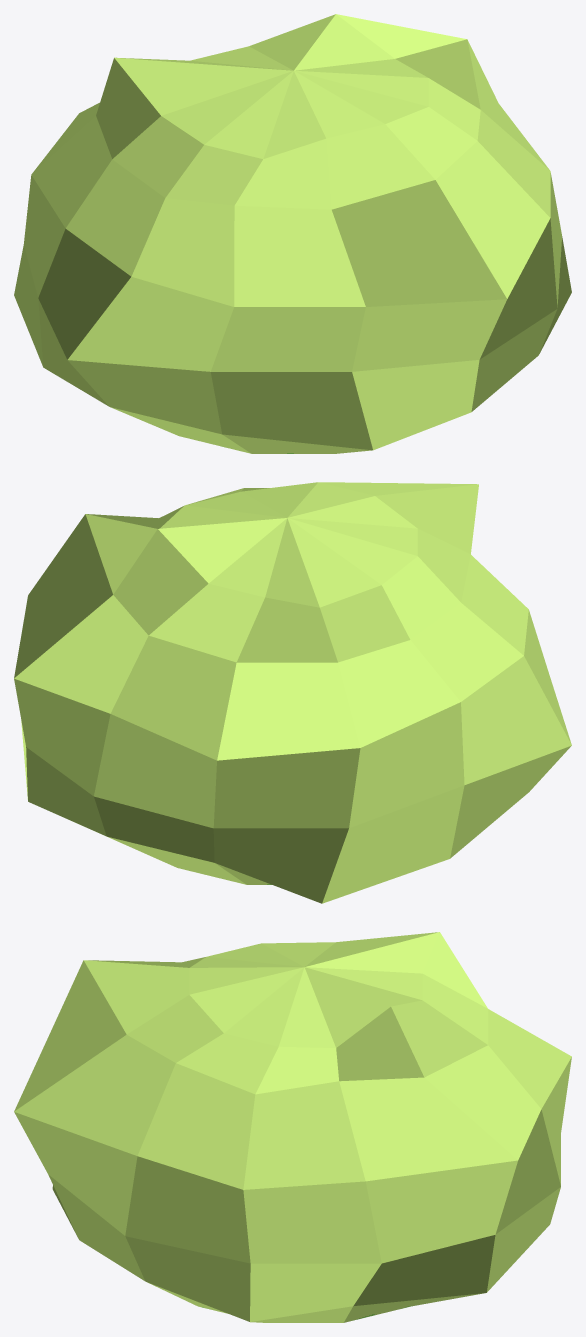
3 views of the same model, one above another, from view 1: azimuth 30°, elevation 25°; view 2: azimuth 150°, elevation 25°; view 3: azimuth 270°, elevation 25° (orthographic). The views are drawn at different scales.
Visible parts, largest first — view 1: sphere; view 2: sphere; view 3: sphere.
Part boxes in pixels (x1,y1,x2,y2): sphere: (14, 14, 571, 453); sphere: (14, 482, 571, 903); sphere: (14, 932, 571, 1322).
Bounding box in the file's own units: 1.54 × 0.9142 × 1.57.
Materials: 1 (1 with a texture image).
